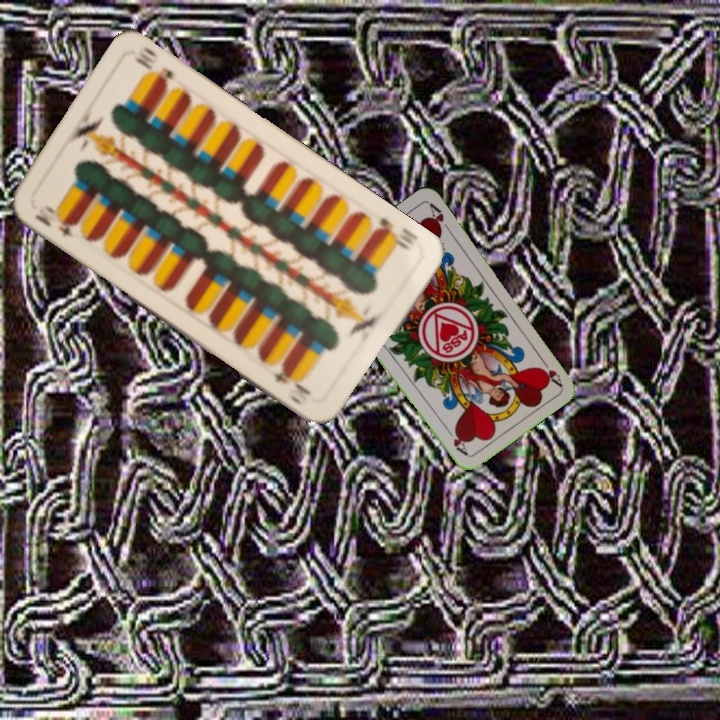E10: (370, 213, 422, 254), (31, 201, 78, 240)
HA: (535, 352, 564, 388)
